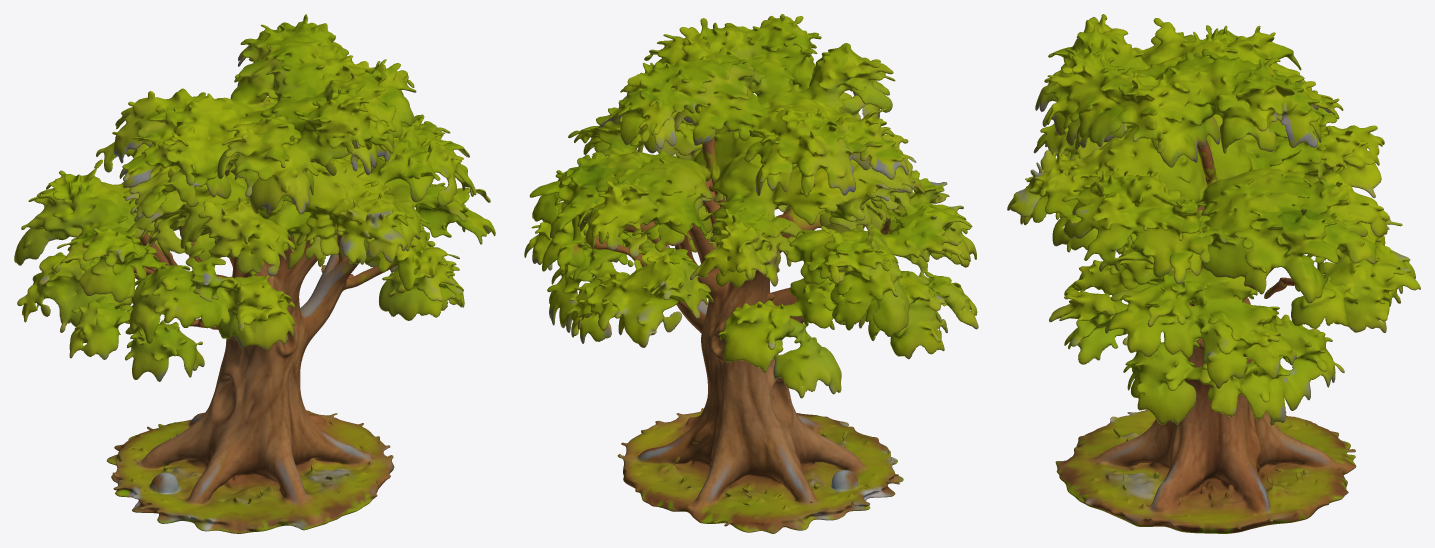
Rendered from forest_tree.glb.
The picture shows the model from 3 angles, left to right: view 1: azimuth 30°, elevation 25°; view 2: azimuth 150°, elevation 25°; view 3: azimuth 270°, elevation 25°; orthographic projection. The views are drawn at different scales.
Visible parts, largest first — view 1: tripo_node_552df28f-4fa4-4066-a43d-c9719a7e5319; view 2: tripo_node_552df28f-4fa4-4066-a43d-c9719a7e5319; view 3: tripo_node_552df28f-4fa4-4066-a43d-c9719a7e5319.
Boxes of the visible parts, x1,y1,x2,y2 form: tripo_node_552df28f-4fa4-4066-a43d-c9719a7e5319: (14,14,495,533); tripo_node_552df28f-4fa4-4066-a43d-c9719a7e5319: (524,14,978,533); tripo_node_552df28f-4fa4-4066-a43d-c9719a7e5319: (1007,14,1420,533).
Size of the model in its own units: 0.9999 by 0.938 by 0.79.
Materials: 1 (1 with a texture image).
